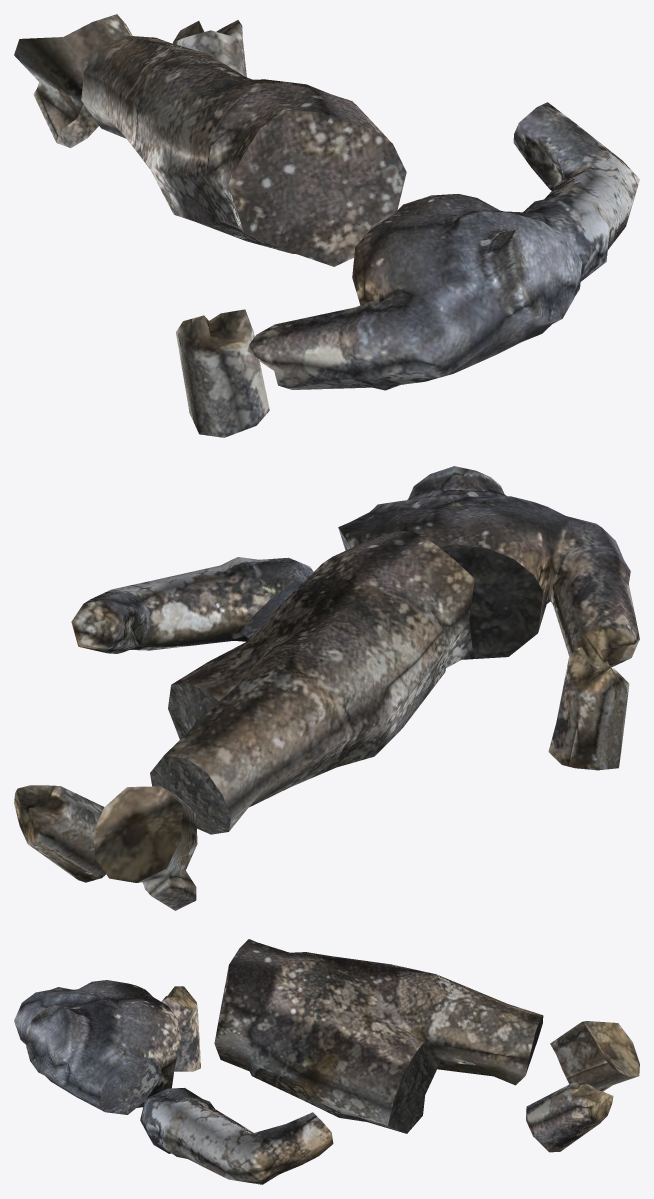
Rendered from forest-statue.glb.
The picture shows the model from 3 angles, top to bottom: view 1: azimuth 30°, elevation 25°; view 2: azimuth 150°, elevation 25°; view 3: azimuth 270°, elevation 25°; orthographic projection. The views are drawn at different scales.
Parts seen in each view (by area): view 1: forest-statue_mesh; view 2: forest-statue_mesh; view 3: forest-statue_mesh.
Boxes of the visible parts, bbox=[...] form: forest-statue_mesh: bbox=[14, 14, 639, 437]; forest-statue_mesh: bbox=[14, 466, 639, 910]; forest-statue_mesh: bbox=[14, 939, 639, 1184].
Bounding box in the file's own units: 1.01 × 0.4682 × 1.54.
Materials: 1 (1 with a texture image).
